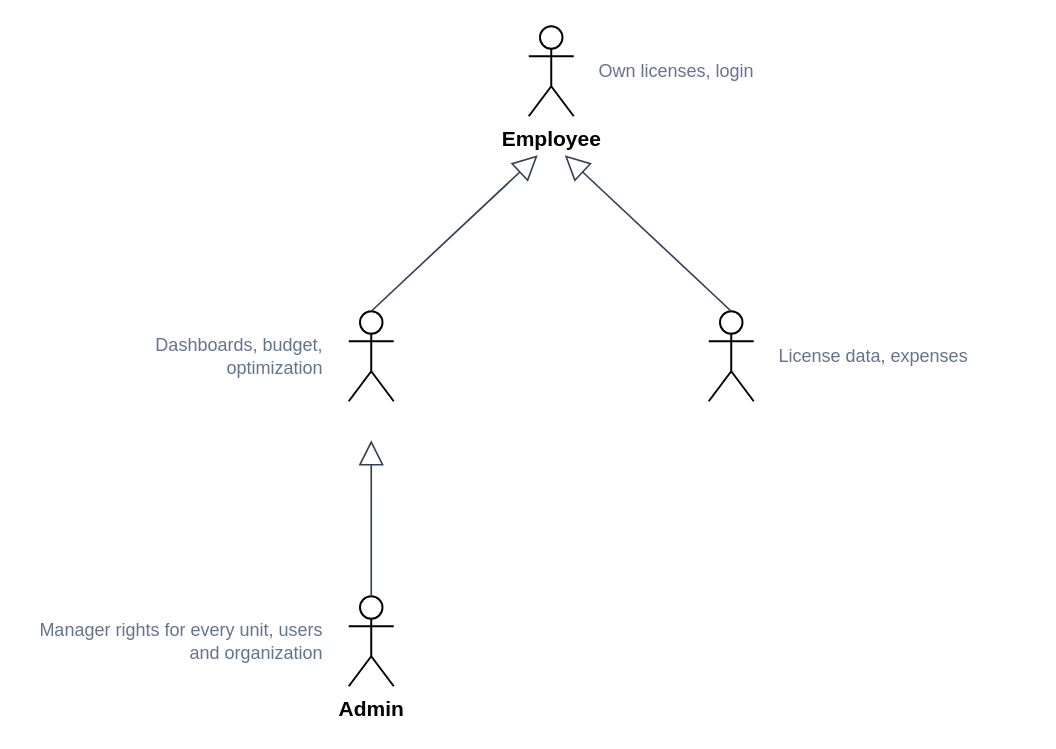
The diagram is 1056 pixels wide and 749 high, and some of its shapes have lost their labels. Here are the shapes that lost their labels. From the top down, the box of each, then its label:
(347, 310, 394, 402): Manager
(707, 310, 754, 402): Staff
